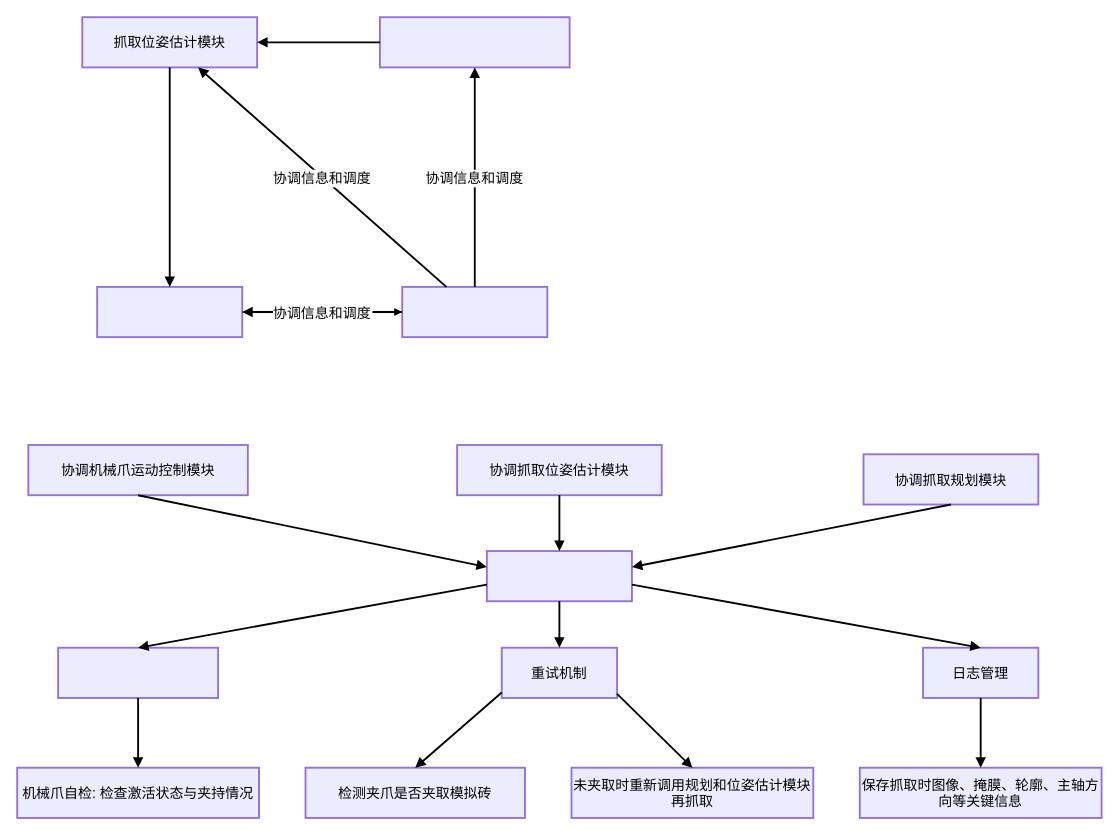
Some shapes in this 1118 by 834 pixel diagram are drawn without their labels. Each missing label, with the box of its shape:
协同控制模块: (401, 286, 548, 338)
异常检测与处理: (57, 646, 219, 698)
抓取规划模块: (96, 286, 243, 338)
控制抓取流程: (485, 550, 632, 602)
机械爪运动控制模块: (379, 16, 570, 68)
